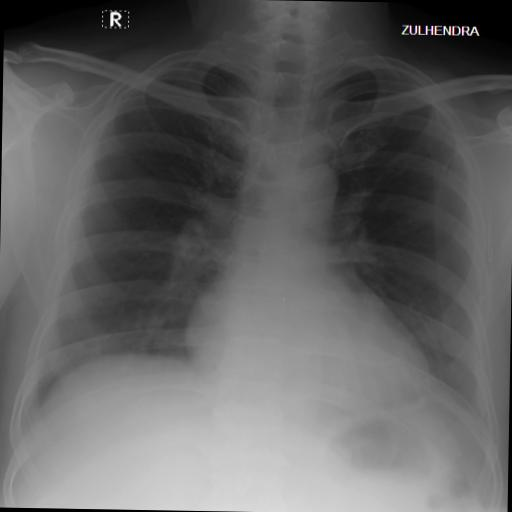kardiomegali: (16, 30, 508, 436)
